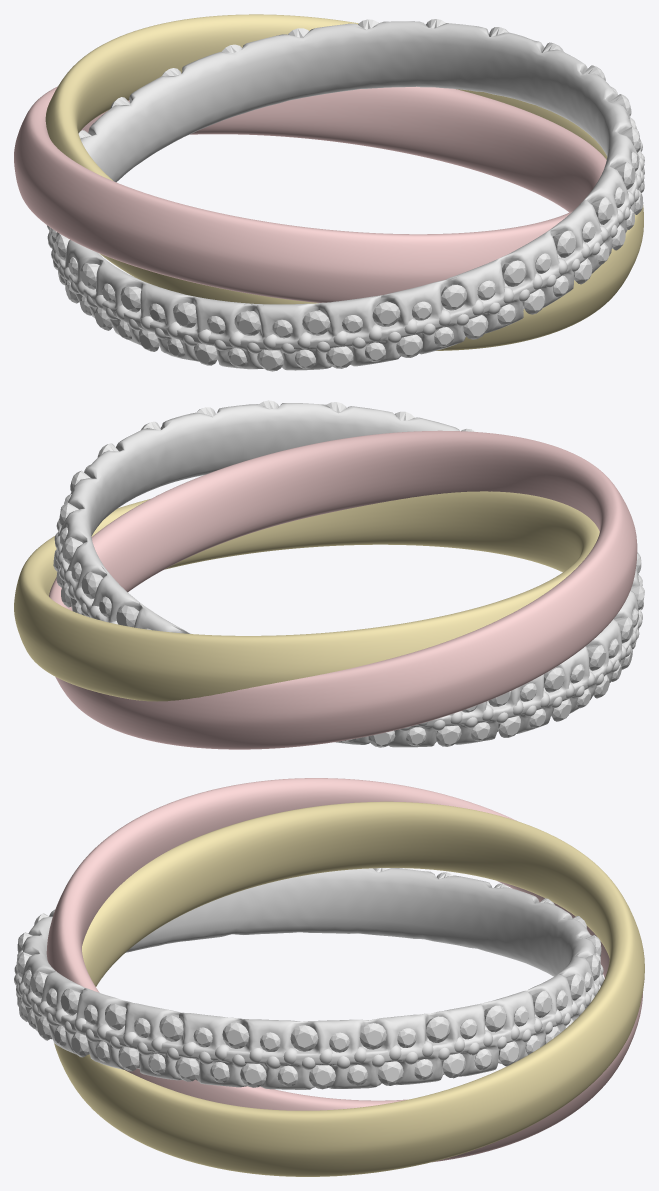
File: ring.glb
3 renders of one model, top to bottom at view 1: azimuth 30°, elevation 25°; view 2: azimuth 150°, elevation 25°; view 3: azimuth 270°, elevation 25°, orthographic. The views are drawn at different scales.
Visible parts, largest first — view 1: RING, ROSE_GOLD, YELLOW_GOLD, BRILLIANTS; view 2: ROSE_GOLD, YELLOW_GOLD, RING, BRILLIANTS; view 3: YELLOW_GOLD, RING, ROSE_GOLD, BRILLIANTS.
Boxes of the visible parts, left/top/right/bottom form: RING: left=47, top=21, right=644, bottom=370; ROSE_GOLD: left=14, top=86, right=606, bottom=302; YELLOW_GOLD: left=45, top=14, right=643, bottom=350; BRILLIANTS: left=50, top=19, right=644, bottom=371; ROSE_GOLD: left=49, top=430, right=637, bottom=749; YELLOW_GOLD: left=14, top=491, right=599, bottom=701; RING: left=54, top=403, right=643, bottom=747; BRILLIANTS: left=53, top=400, right=644, bottom=747; YELLOW_GOLD: left=54, top=801, right=644, bottom=1176; RING: left=14, top=868, right=603, bottom=1089; ROSE_GOLD: left=46, top=778, right=642, bottom=1162; BRILLIANTS: left=16, top=868, right=601, bottom=1089.
Bounding box in the file's own units: 7.55 × 2.17 × 7.68.
